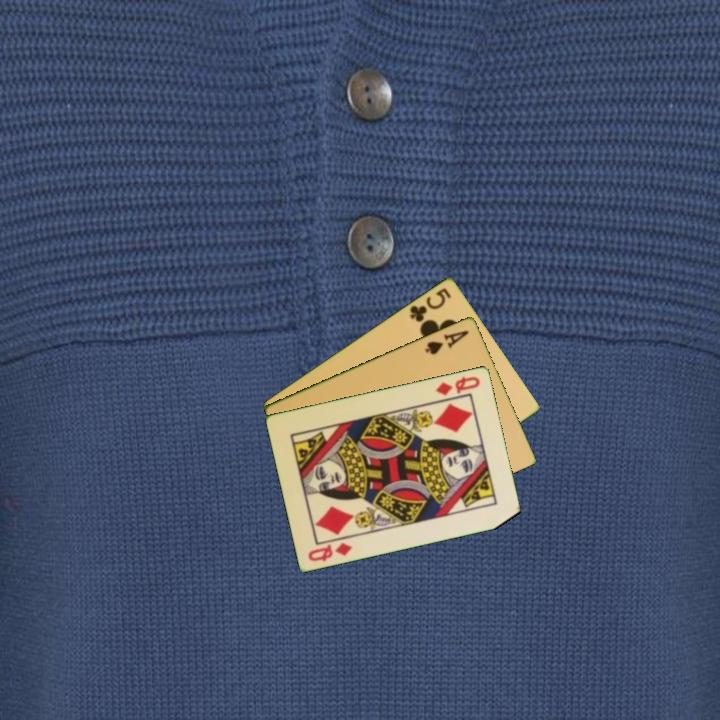5c: (406, 284, 454, 325)
As: (421, 326, 472, 357)
Qd: (432, 372, 483, 398), (305, 539, 355, 564)
